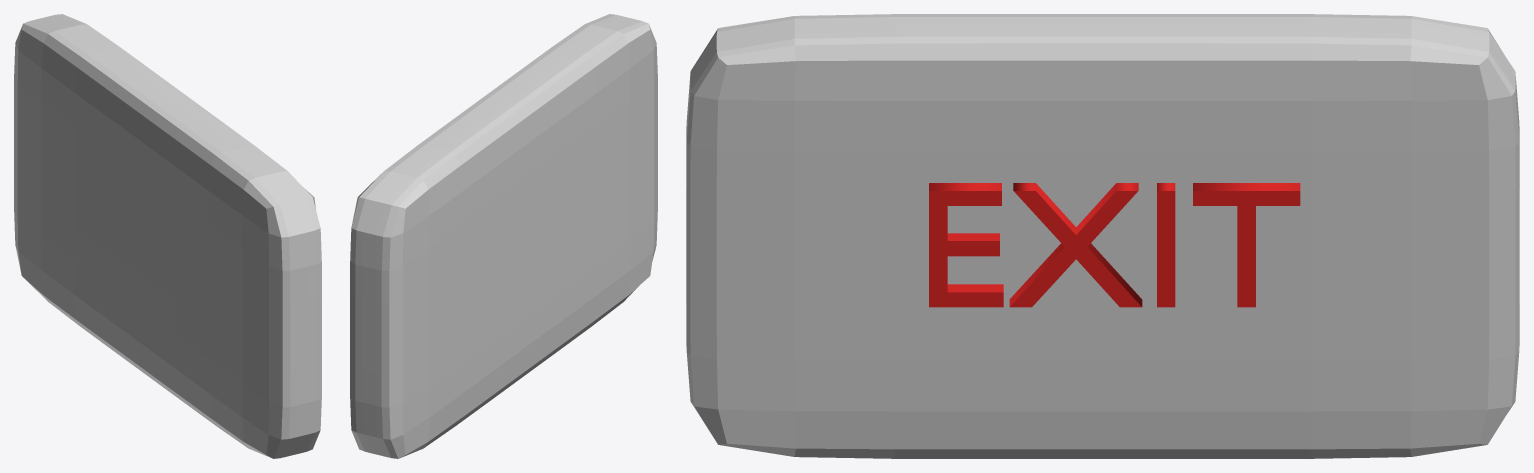
The picture shows the model from 3 angles, left to right: view 1: azimuth 30°, elevation 25°; view 2: azimuth 150°, elevation 25°; view 3: azimuth 270°, elevation 25°; orthographic projection. The views are drawn at different scales.
Visible parts, largest first — view 1: Cube; view 2: Cube; view 3: Cube, EXIT.
Part boxes in pixels (bbox=[...]): Cube: bbox=[14, 14, 321, 458]; Cube: bbox=[350, 14, 657, 458]; Cube: bbox=[686, 14, 1519, 458]; EXIT: bbox=[929, 183, 1300, 307].
Bounding box in the file's own units: 60.01 × 246 × 442.
